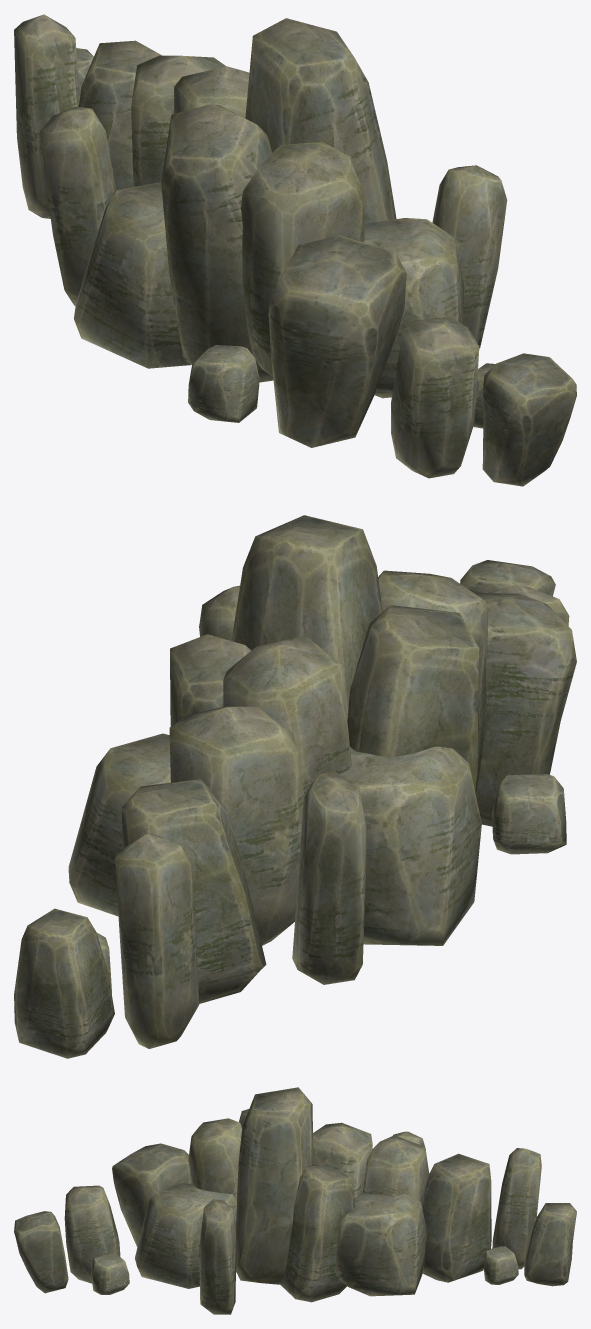
Rendered from SM_Crystal_stones_cluster.fbx.
3 views of the same model, one above another, from view 1: azimuth 30°, elevation 25°; view 2: azimuth 150°, elevation 25°; view 3: azimuth 270°, elevation 25° (orthographic). The views are drawn at different scales.
Parts seen in each view (by area): view 1: SM_Crystal_stones_cluster_LOD0; view 2: SM_Crystal_stones_cluster_LOD0; view 3: SM_Crystal_stones_cluster_LOD0.
Boxes of the visible parts, <box> form: SM_Crystal_stones_cluster_LOD0: <box>14,14,576,486</box>; SM_Crystal_stones_cluster_LOD0: <box>14,515,576,1058</box>; SM_Crystal_stones_cluster_LOD0: <box>14,1087,576,1314</box>.
Bounding box in the file's own units: 164 × 413 × 157.
